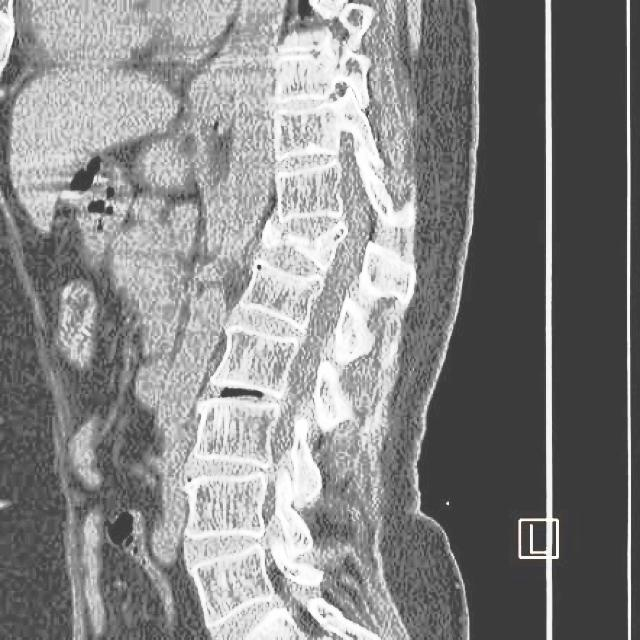Compression-Crush Fracutre: (249, 214, 362, 292), (198, 363, 297, 416)
